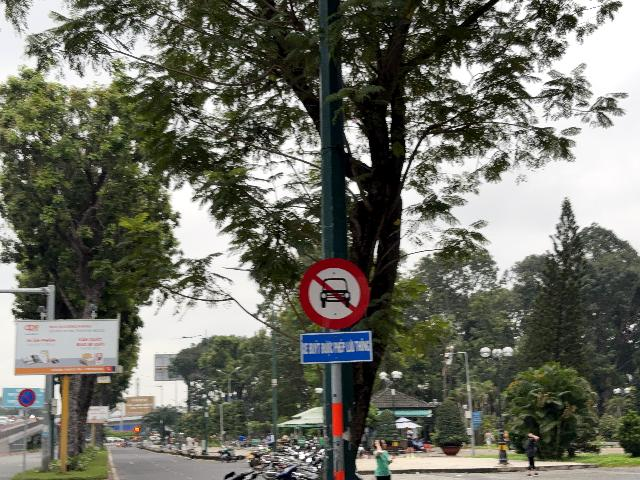cam-o-to: (299, 258, 369, 329)
